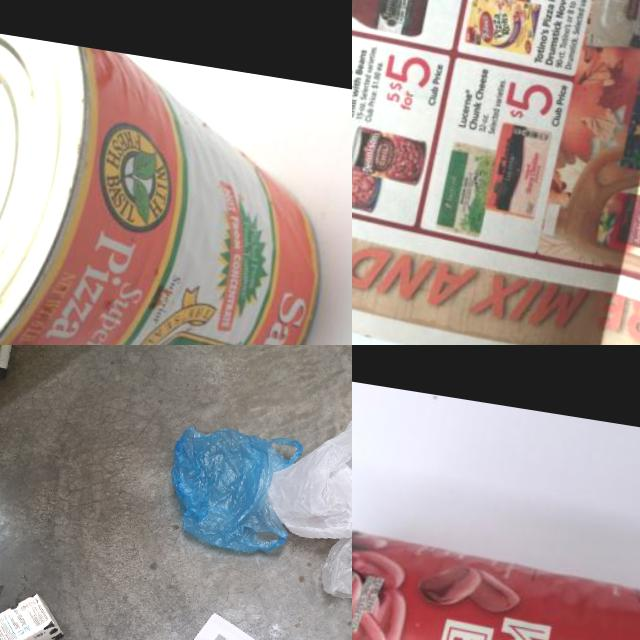caixinha: (0, 578, 69, 640)
lata: (0, 25, 352, 345), (352, 522, 640, 640)
papel: (352, 0, 640, 345)
sacola plástica: (162, 421, 304, 558), (261, 386, 352, 548), (314, 486, 352, 627)
